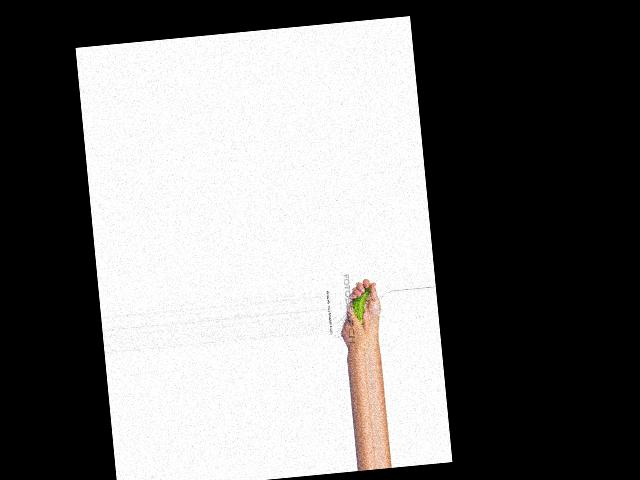cucumber: (349, 286, 373, 327)
